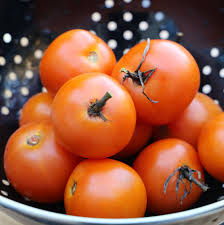tomato: (119, 35, 197, 122), (53, 73, 135, 154), (62, 157, 143, 218), (140, 139, 209, 209)
